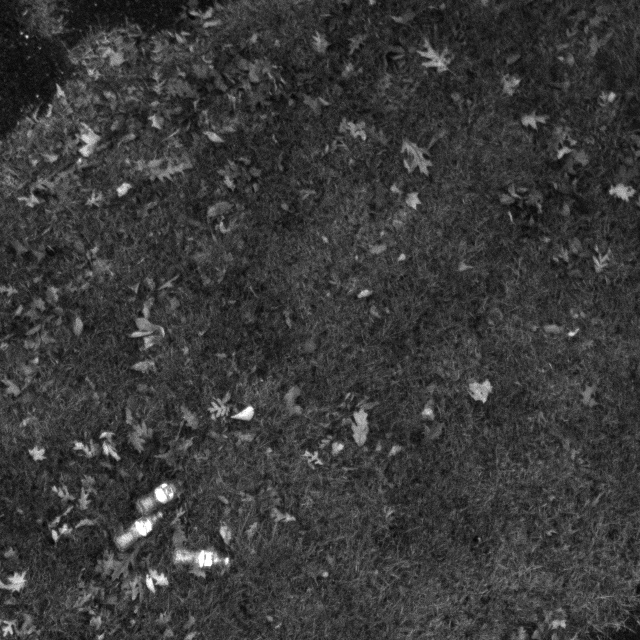bottle: (124, 473, 185, 521), (112, 506, 171, 552), (173, 538, 237, 573)
